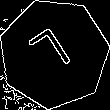L_SE: (27, 24, 81, 83)
